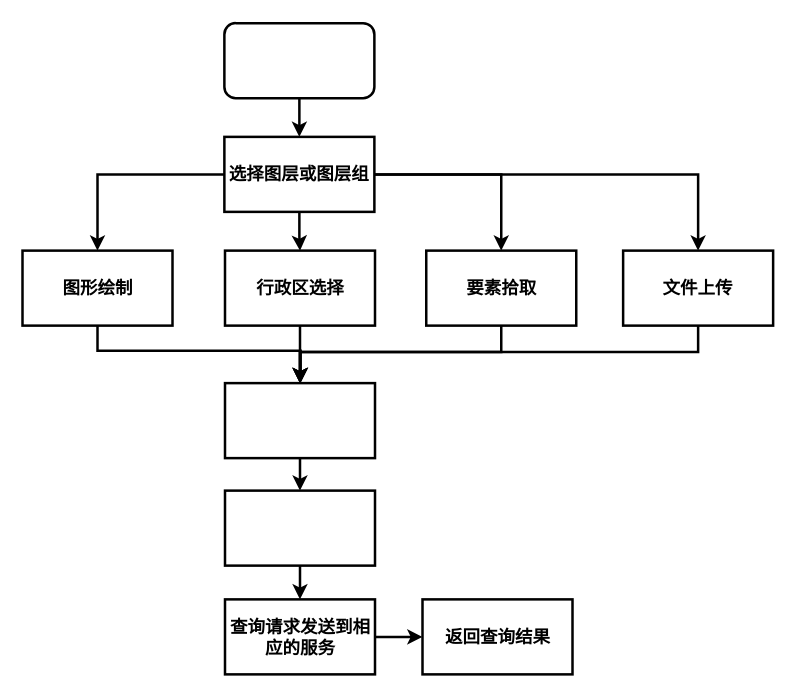
This 796x696 diagram has some shape labels left out. Here are the shapes that lost their labels. From the top down, the centre of each, then its label:
(x=298, y=60): 开始
(x=299, y=420): 设置查询条件：缓冲距离和查询关系
(x=299, y=527): 查询
